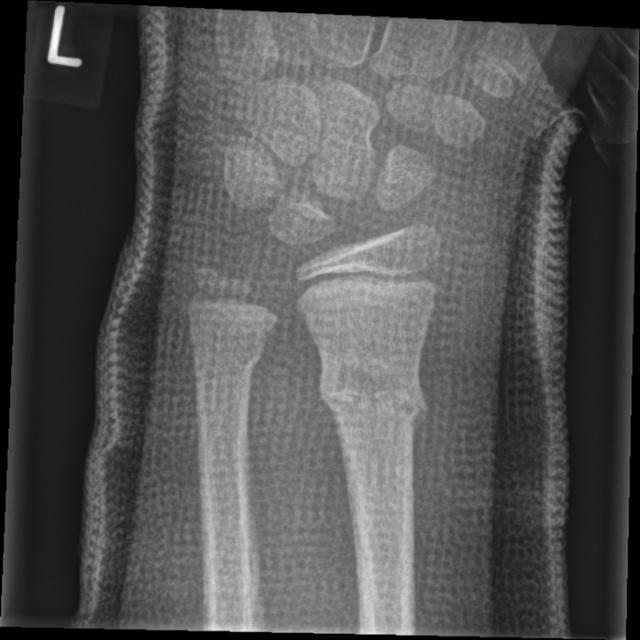radius fracture: (294, 351, 470, 467)
ulna fracture: (232, 311, 282, 482)
